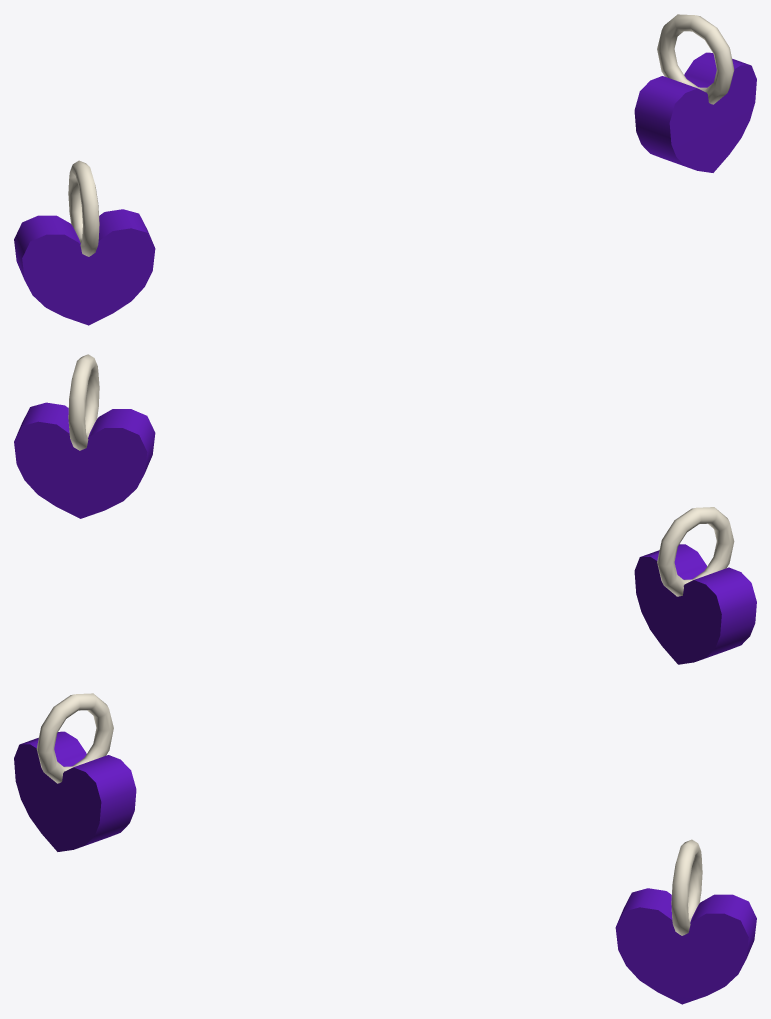
File: Earring_18.fbx
The picture shows the model from 3 angles, top to bottom: view 1: azimuth 30°, elevation 25°; view 2: azimuth 150°, elevation 25°; view 3: azimuth 330°, elevation 25°; orthographic projection.
Visible parts, largest first — view 1: Earring_18; view 2: Earring_18; view 3: Earring_18.
Part boxes in pixels (x1,y1,x2,y2): Earring_18: (14, 14, 756, 325); Earring_18: (14, 354, 756, 664); Earring_18: (14, 693, 756, 1004).
Bounding box in the file's own units: 60.68 × 11.93 × 6.59.
